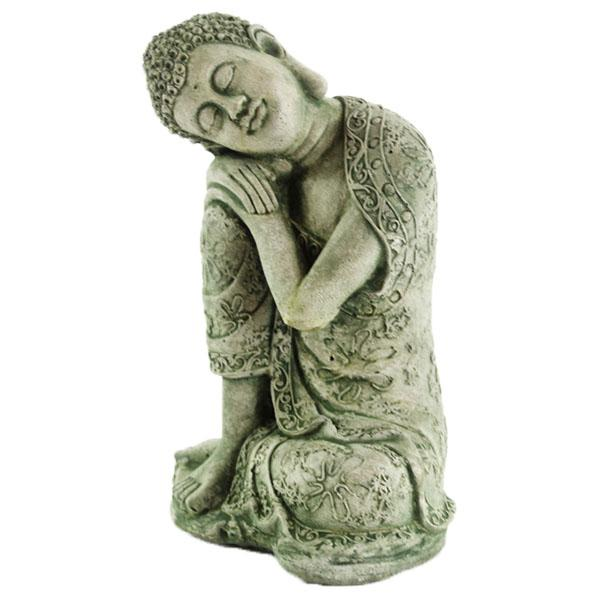person-like: (133, 5, 461, 589)
